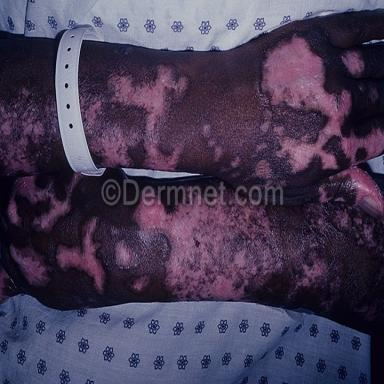Lupus-Erythematosus-Chronicus-Discoides: (260, 33, 384, 176), (133, 204, 281, 300), (79, 63, 190, 171), (0, 88, 59, 175), (7, 174, 81, 233), (56, 217, 106, 294), (334, 167, 384, 219), (11, 244, 50, 287), (293, 263, 325, 290), (115, 240, 137, 269), (342, 51, 365, 76), (255, 159, 271, 178), (209, 139, 222, 162), (132, 275, 149, 292), (260, 109, 272, 133), (230, 157, 241, 168), (202, 124, 210, 138)
